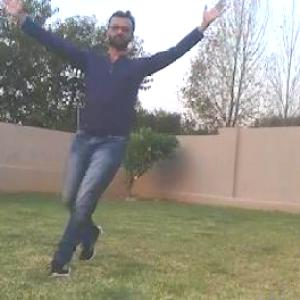takeoff: (7, 0, 234, 271)
